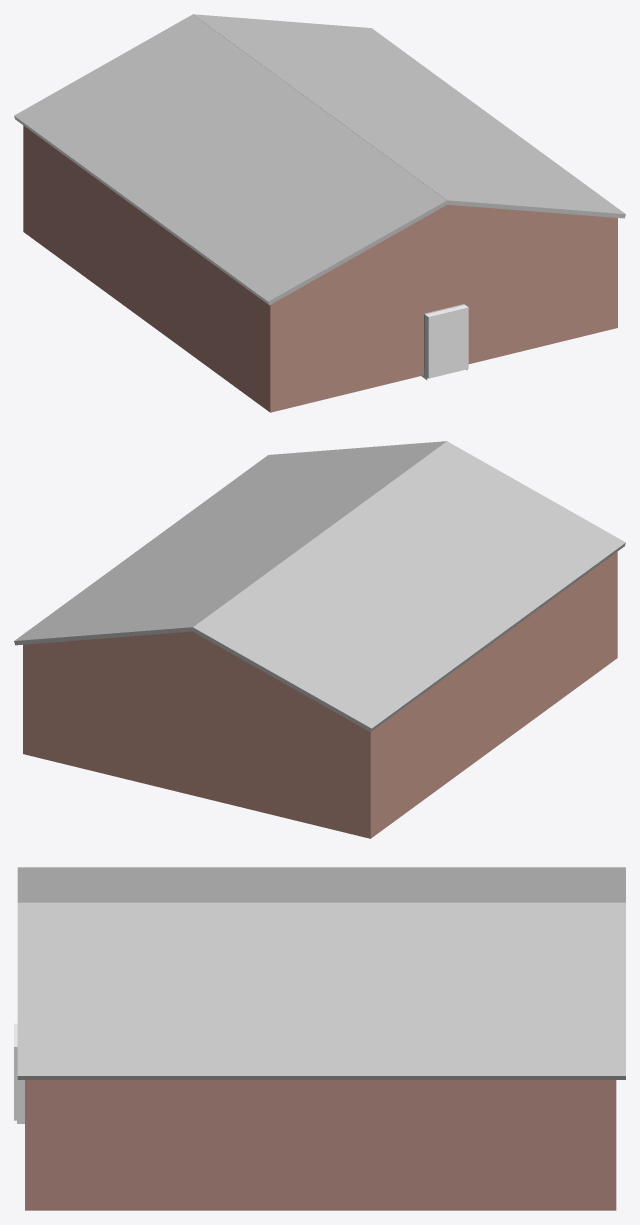
File: iphan_v2.obj
The picture shows the model from 3 angles, top to bottom: view 1: azimuth 30°, elevation 25°; view 2: azimuth 150°, elevation 25°; view 3: azimuth 270°, elevation 25°; orthographic projection. The views are drawn at different scales.
Parts seen in each view (by area): view 1: Ceiling, Room, CTRL_Hole; view 2: Ceiling, Room; view 3: Ceiling, Room, CTRL_Hole.
Part boxes in pixels (x1,y1,x2,y2): Ceiling: [14, 14, 625, 305]; Room: [23, 125, 617, 412]; CTRL_Hole: [424, 305, 468, 378]; Ceiling: [14, 441, 625, 732]; Room: [23, 552, 617, 838]; Ceiling: [17, 867, 625, 1079]; Room: [25, 1080, 616, 1210]; CTRL_Hole: [14, 1023, 24, 1120].
Bounding box in the file's own units: 13.38 × 6.26 × 16.57.
